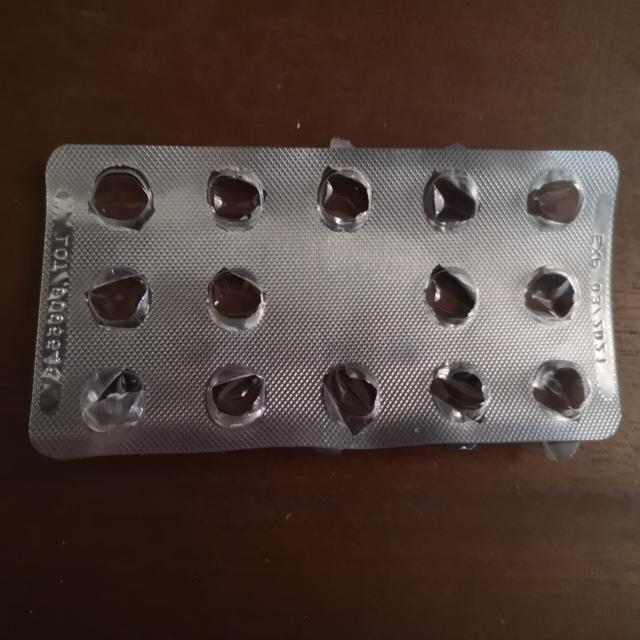Empty: (74, 362, 152, 436), (82, 162, 162, 232), (80, 260, 157, 332), (200, 259, 272, 336), (314, 358, 388, 432), (314, 156, 379, 239), (200, 358, 270, 435), (201, 162, 273, 232), (424, 354, 492, 427), (524, 353, 592, 424), (523, 158, 589, 230), (420, 258, 483, 332), (420, 162, 485, 232), (515, 263, 584, 327)
